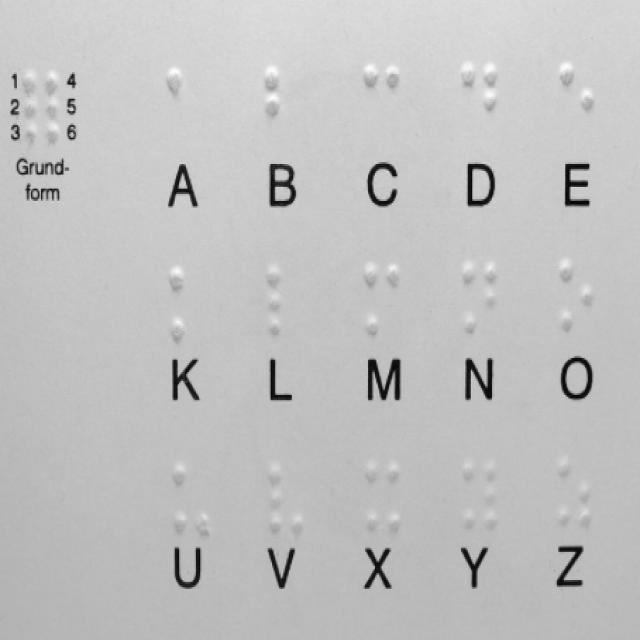braiile: (544, 248, 612, 348), (250, 248, 316, 350), (448, 50, 509, 152), (548, 48, 606, 150), (352, 58, 412, 154), (154, 54, 211, 152), (354, 452, 414, 544), (256, 54, 310, 156), (355, 248, 408, 350), (165, 447, 217, 546), (454, 248, 506, 346), (259, 451, 310, 547), (548, 446, 600, 540), (165, 255, 214, 351), (454, 449, 504, 539)
